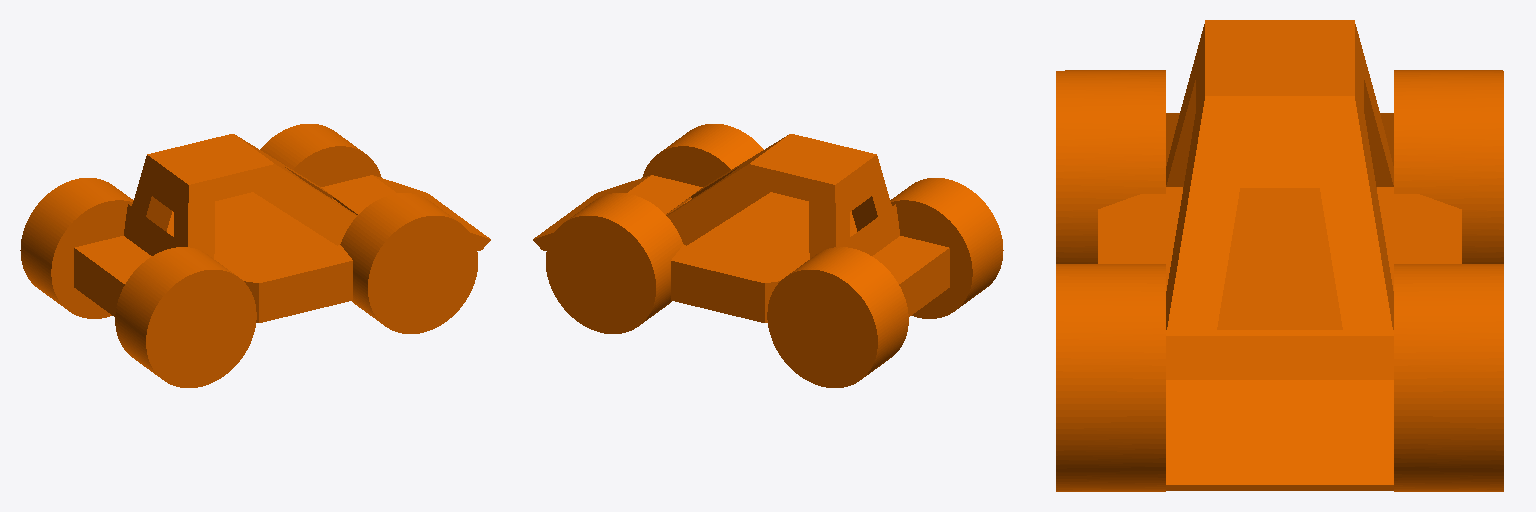
The robot description file, URDF, robot "erp42":
<?xml version="1.0" ?>
<!-- =================================================================================== -->
<!-- |    This document was autogenerated by xacro from erp42.xacro                    | -->
<!-- |    EDITING THIS FILE BY HAND IS NOT RECOMMENDED                                 | -->
<!-- =================================================================================== -->
<robot name="erp42" xmlns:controller="http://playerstage.sourceforge.net/gazebo/xmlschema/#controller" xmlns:interface="http://playerstage.sourceforge.net/gazebo/xmlschema/#interface" xmlns:sensor="http://playerstage.sourceforge.net/gazebo/xmlschema/#sensor">
  <link name="base_link">
    <visual>
      <origin rpy="1.5708 0 1.5708" xyz="0.75 0 0.23"/>
      <geometry>
        <mesh filename="package://mm_vis/urdf/erp42.stl" scale="0.0012 0.0012 0.0012" />
      </geometry>
      <material name="car_orange">
        <color rgba="0.92 0.45 0.02 1"/>
      </material>
    </visual>
  </link>
</robot>

--- Render facts (derived) ---
Views: 3 orthographic renders of the robot side by side, from view 1: azimuth 30°, elevation 25°; view 2: azimuth 150°, elevation 25°; view 3: azimuth 270°, elevation 25°.
Model erp42 with 1 links and 0 joints (none), rooted at base_link, posed all joints at 0.
Links seen in each view (by area): view 1: base_link; view 2: base_link; view 3: base_link.
Link boxes in pixels (box(x1,y1,x2,y2)): base_link: box(20, 124, 490, 387); base_link: box(533, 124, 1003, 387); base_link: box(1056, 20, 1503, 491).
Size in the robot's own frame: 2.37 by 1.37 by 0.9864 metres.
Meshes: 1 distinct files referenced, 1 mesh visuals loaded (1 binary STL).
